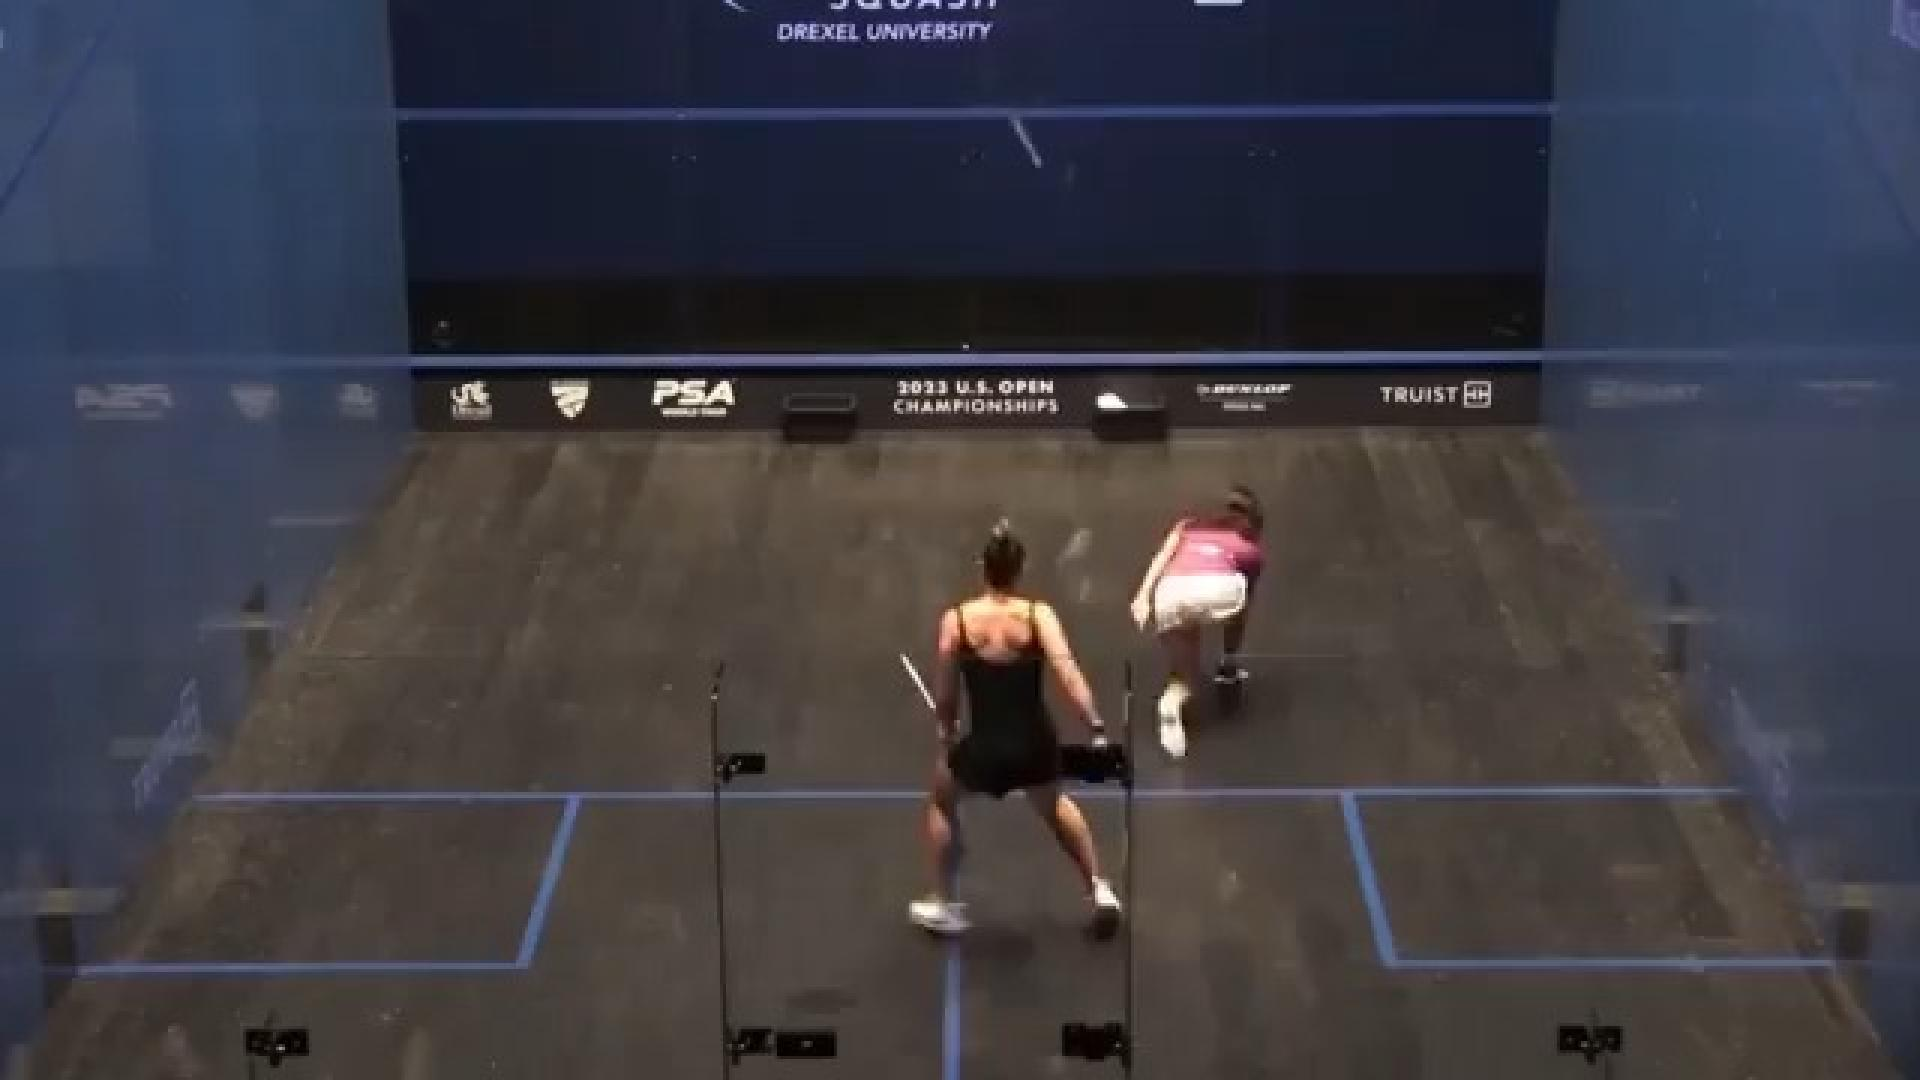Squash-Ball: (993, 95, 1071, 200)
